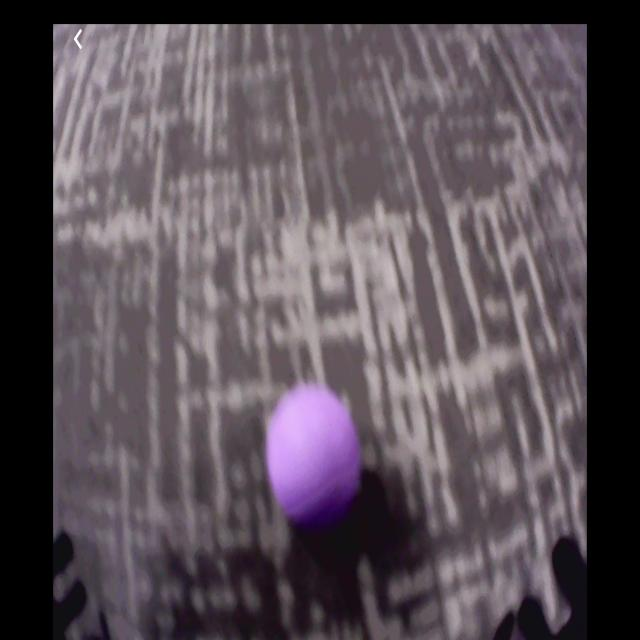ball: (264, 382, 360, 522)
